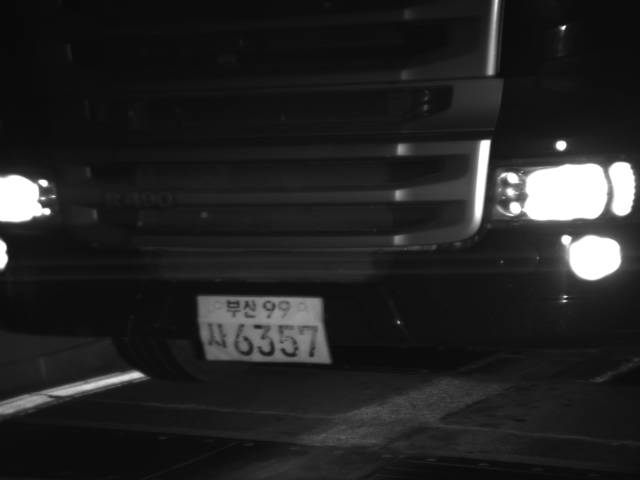car: (2, 1, 640, 383)
plate: (194, 293, 334, 366)
